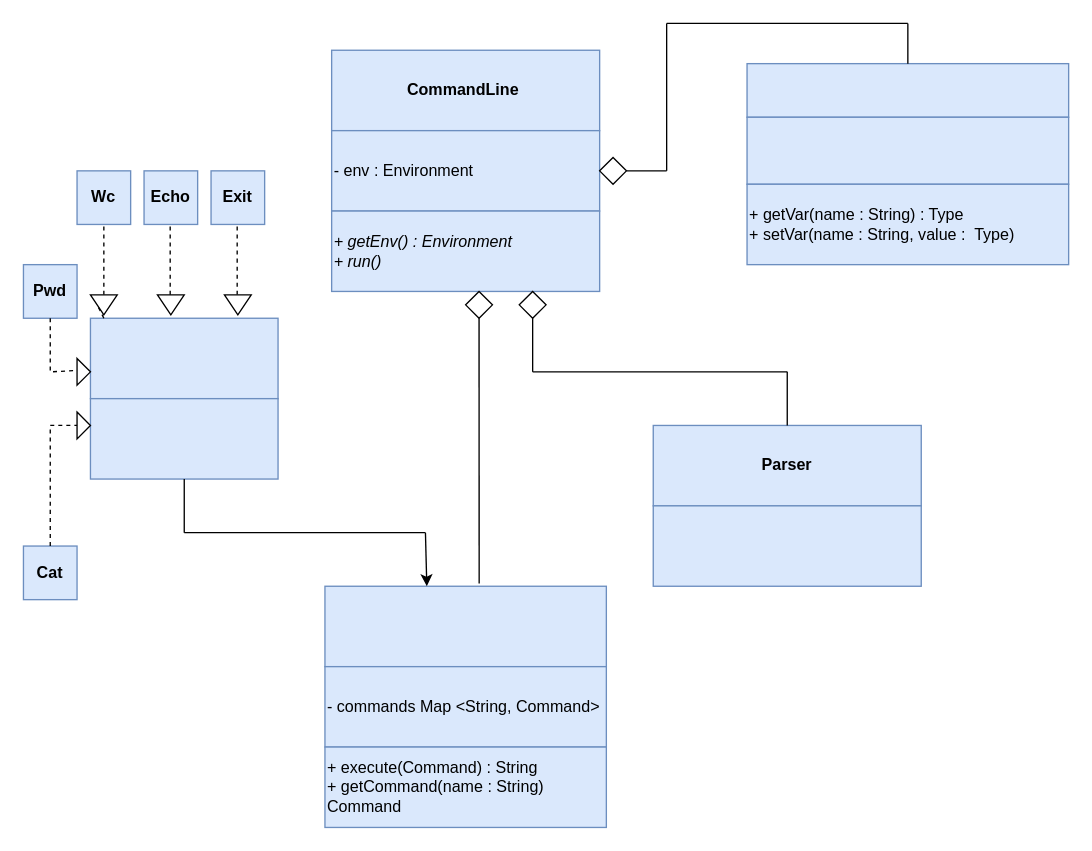
Image size: 1092x851. Some labels were removed from this diagram. Here are the shapes that lost their labels. From the top down, the centre of each, then its label:
point (907, 89): Environment
point (907, 150): - vars : Map <String, Type>
point (183, 358): Command
point (183, 438): + name : String + args : list
point (786, 545): + parse (input : String) : list
point (465, 626): Operation
